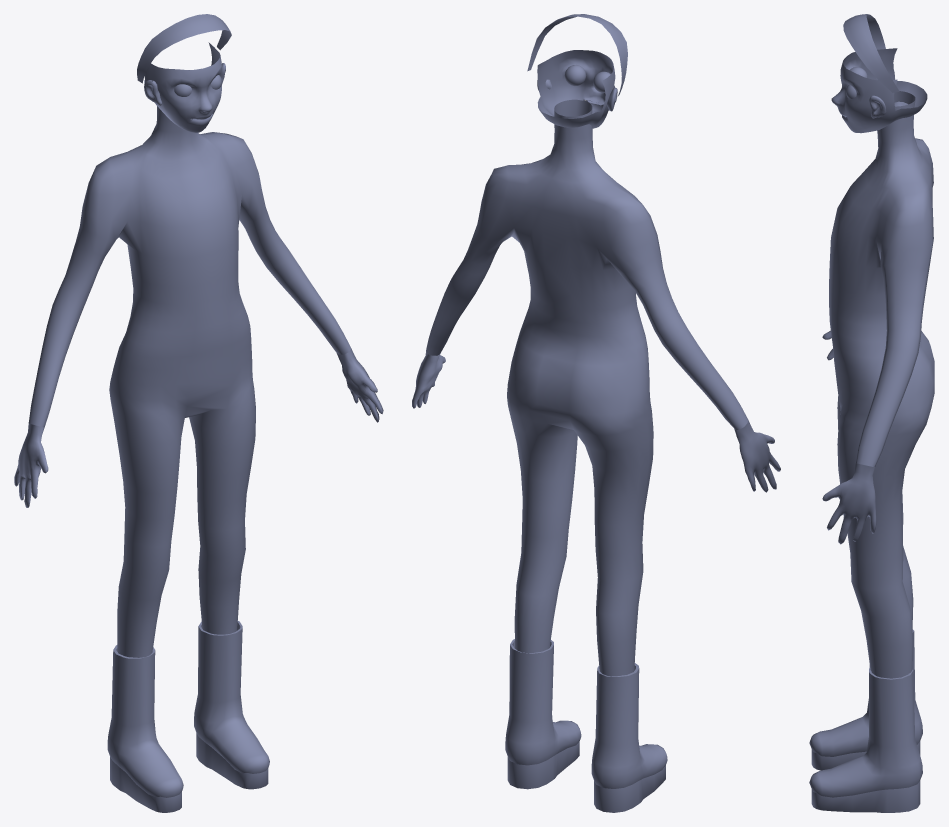
Rendered from M_Corps Femme Disco 1.fbx.
The picture shows the model from 3 angles, left to right: view 1: azimuth 30°, elevation 25°; view 2: azimuth 150°, elevation 25°; view 3: azimuth 270°, elevation 25°; orthographic projection.
Parts seen in each view (by area): view 1: polySurface334; view 2: polySurface334; view 3: polySurface334.
Boxes of the visible parts, x1,y1,x2,y2 form: polySurface334: (14,14,383,812); polySurface334: (412,14,780,812); polySurface334: (809,14,934,812).
Bounding box in the file's own units: 0.9172 × 0.2797 × 1.89.
